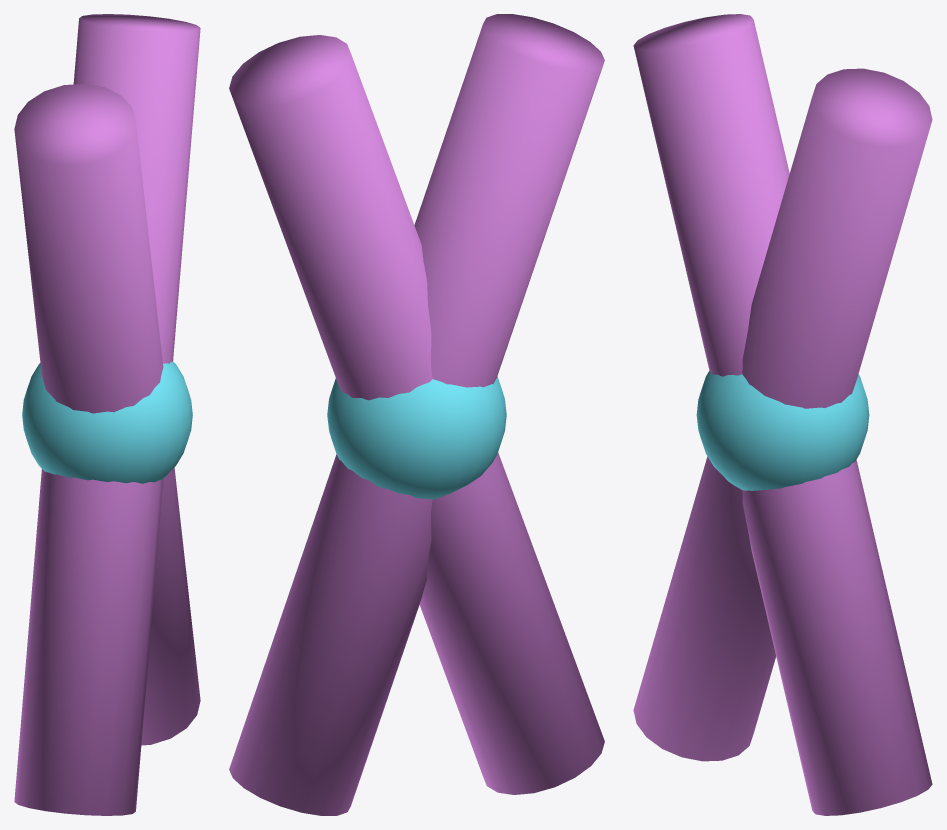
The model's file is chromosome.glb.
3 renders of one model, left to right at view 1: azimuth 30°, elevation 25°; view 2: azimuth 150°, elevation 25°; view 3: azimuth 270°, elevation 25°, orthographic. The views are drawn at different scales.
Visible parts, largest first — view 1: arm2, arm1, centro; view 2: arm1, arm2, centro; view 3: arm1, arm2, centro.
Boxes of the visible parts, x1,y1,x2,y2 form: arm2: (14,14,200,815); arm1: (14,83,200,745); centro: (22,361,192,483); arm1: (229,14,604,815); arm2: (229,35,604,794); centro: (327,376,506,499); arm1: (633,14,932,815); arm2: (633,68,932,761); centro: (696,371,869,490).
Bounding box in the file's own units: 0.4828 × 1.3 × 0.4848.
